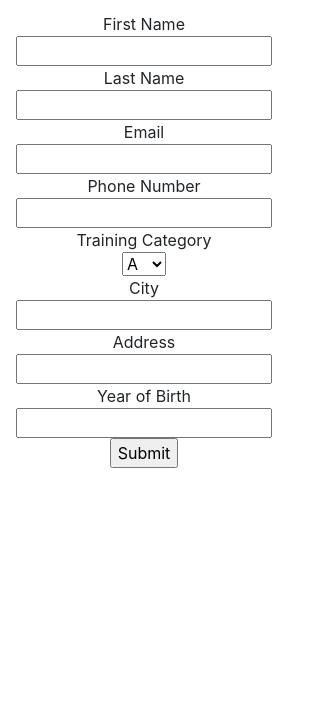
Test: RegistrationForm › shows error messages when form fields are empty
# Submit form
Click the button named "Submit" at [144, 453], box [110,438,178,468]
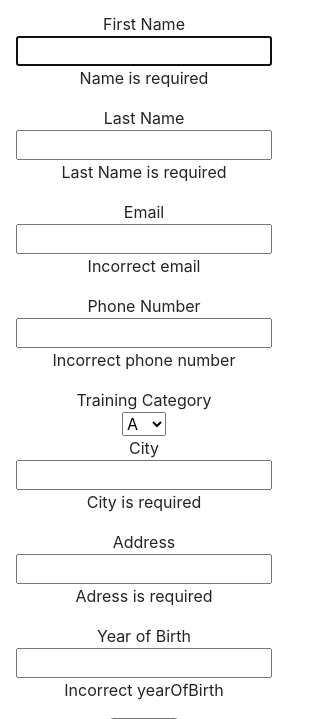
Result: the text "Name is required" is shown at [80,66,208,90]
Result: the text "Last Name is required" is shown at [62,160,226,184]
Result: the text "Incorrect email" is shown at [88,254,200,278]
